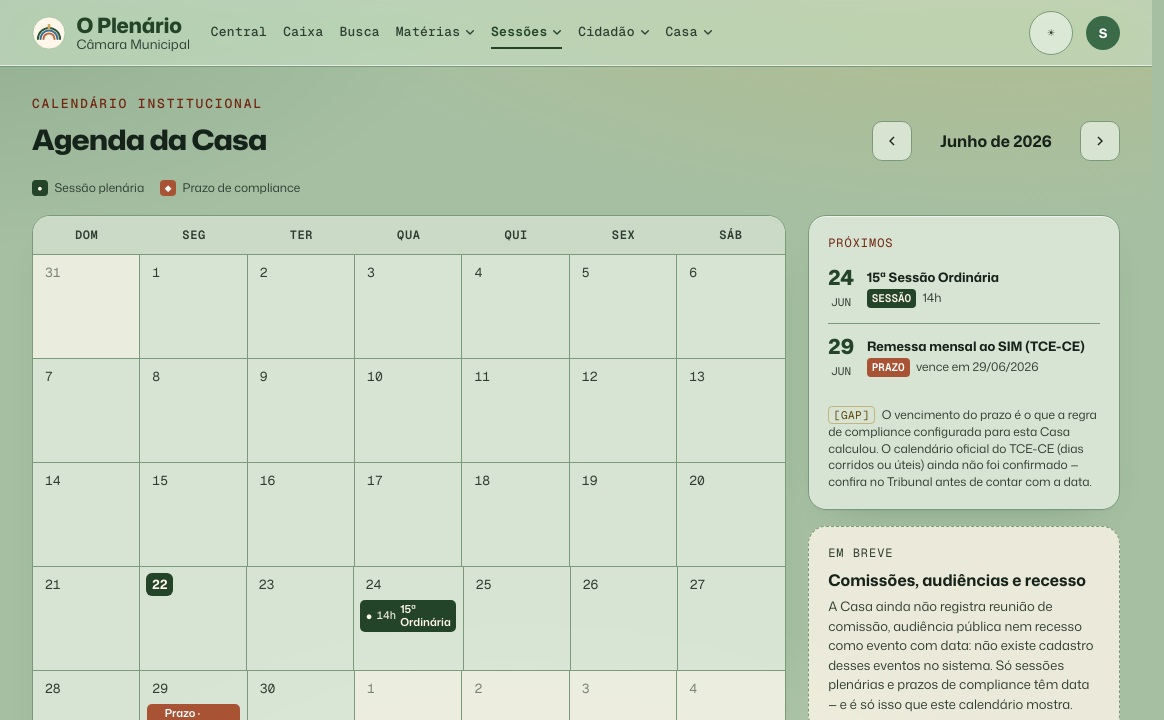
Test case: PaginaCalendario › navegar de mês troca a grade e não arrasta o evento de junho
Click the button named "Próximo mês" at (1100, 141), box [1080,121,1120,161]
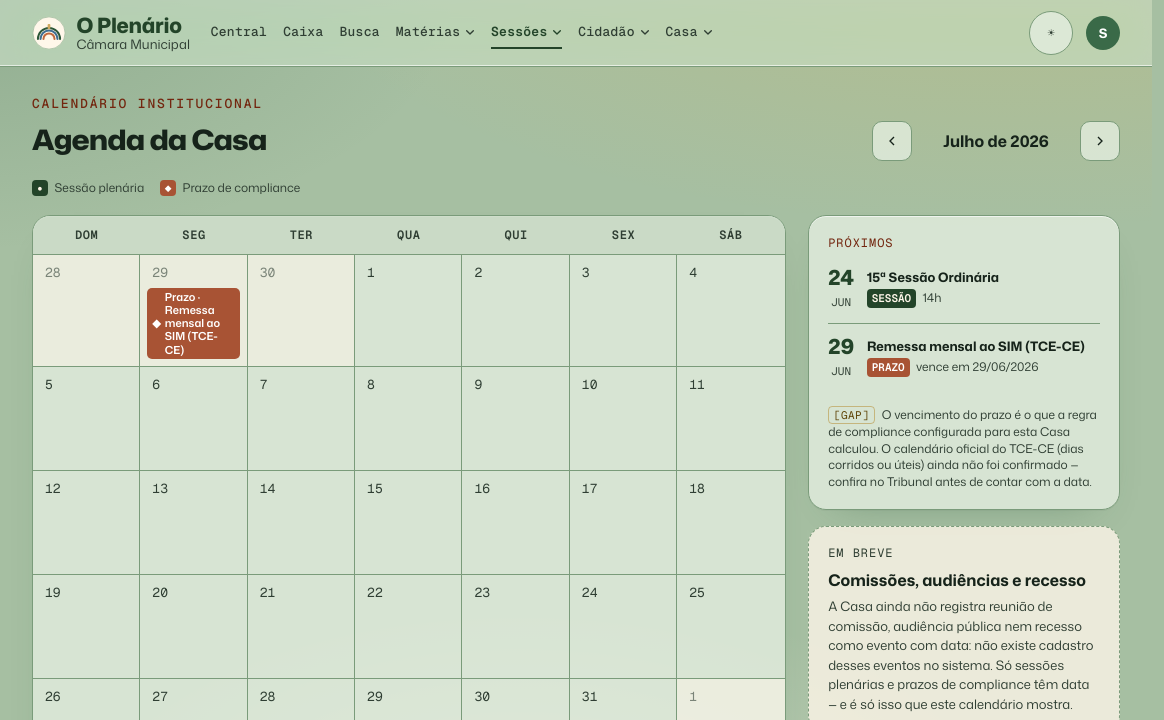
Expected: the text "15ª Sessão Ordinária" is shown, [867,268,999,286]
Click the button named "Mês anterior" at (892, 141), box [872,121,912,161]
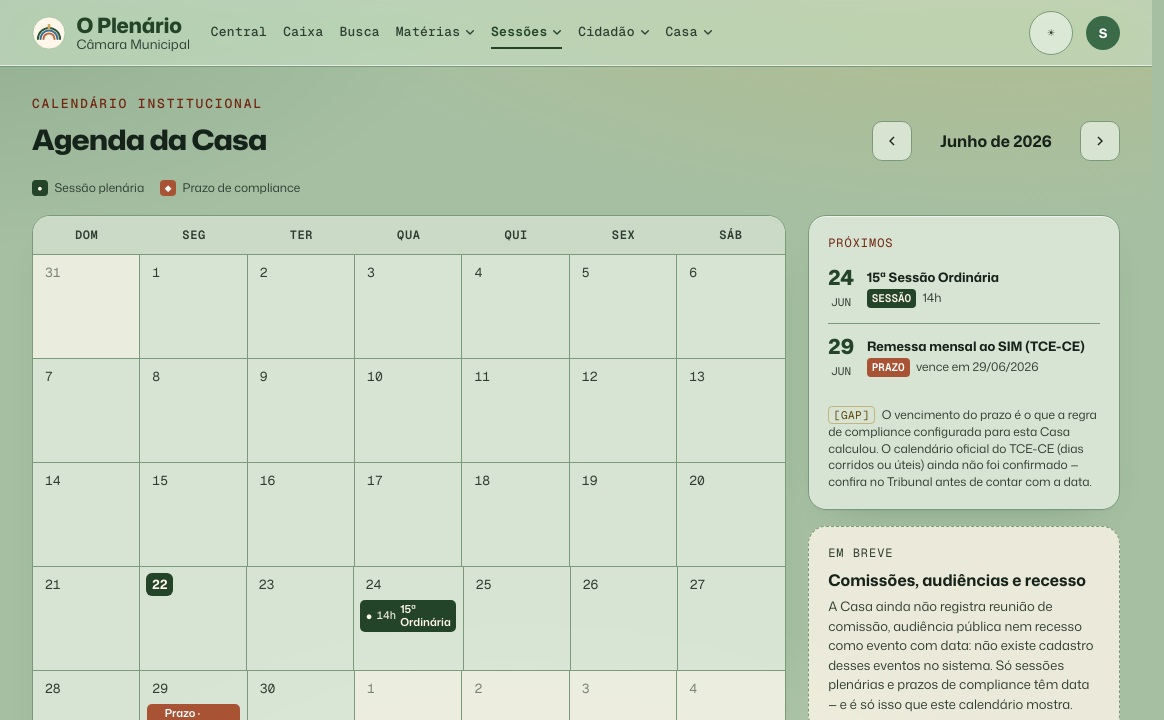
Click the button named "Mês anterior" at (892, 141), box [872,121,912,161]
(page scrolled)
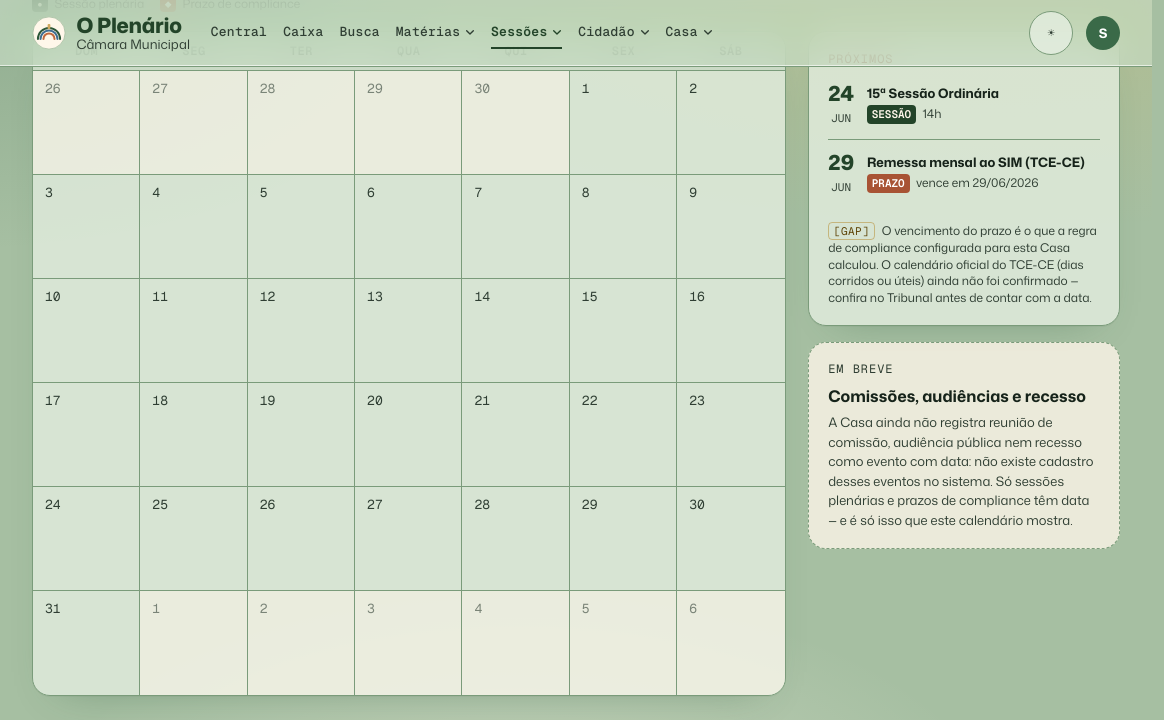
Now the table named "Maio de 2026" is shown, box [33,32,785,695]
